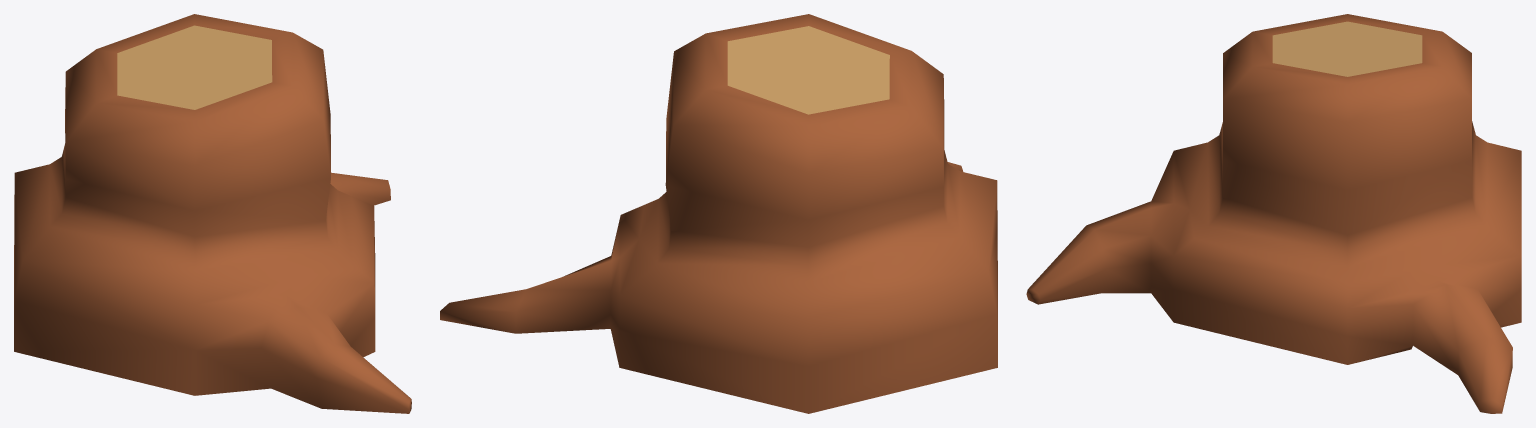
The model's file is Tree_Cut_01.fbx.
3 renders of one model, left to right at view 1: azimuth 30°, elevation 25°; view 2: azimuth 150°, elevation 25°; view 3: azimuth 270°, elevation 25°, orthographic. The views are drawn at different scales.
Visible parts, largest first — view 1: Tree_Cut_01; view 2: Tree_Cut_01; view 3: Tree_Cut_01.
Boxes of the visible parts, left/top/right/bottom form: Tree_Cut_01: left=14, top=14, right=411, bottom=413; Tree_Cut_01: left=440, top=14, right=997, bottom=413; Tree_Cut_01: left=1026, top=14, right=1521, bottom=413.
Size of the model in its own units: 707 by 387 by 697.
